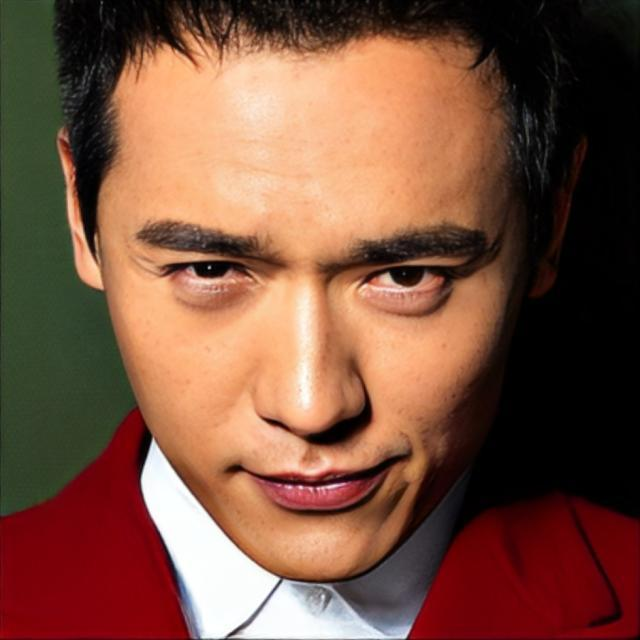content: (94, 16, 520, 586)
